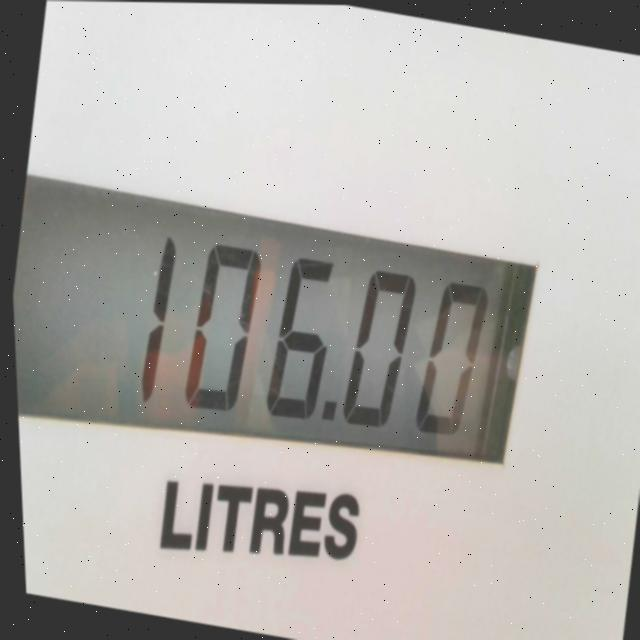.: (309, 388, 343, 435)
0: (165, 221, 273, 433), (401, 264, 498, 457), (328, 255, 426, 435)
1: (112, 217, 201, 415)
6: (251, 246, 351, 434)
